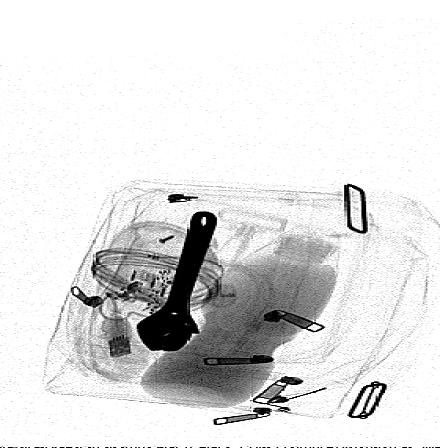Wrench: (135, 210, 220, 353)
